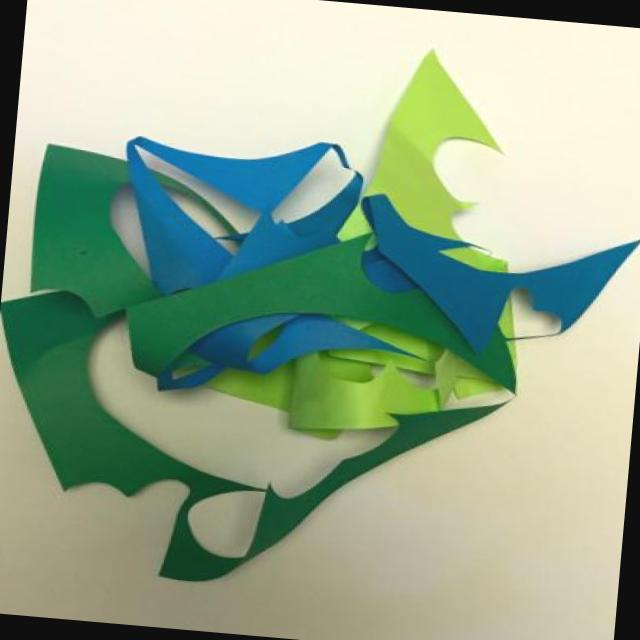paper: (0, 54, 636, 580)
